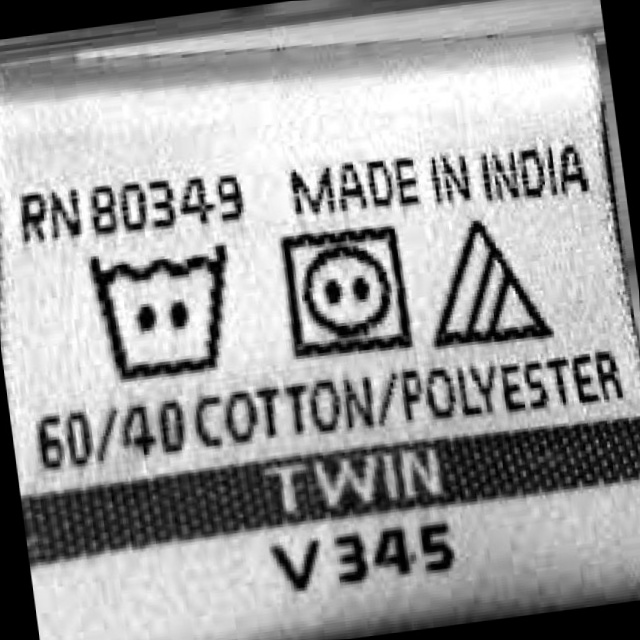40C: (75, 229, 252, 394)
non_chlorine_bleach: (411, 209, 560, 360)
tumble_dry_medium: (269, 214, 422, 366)
